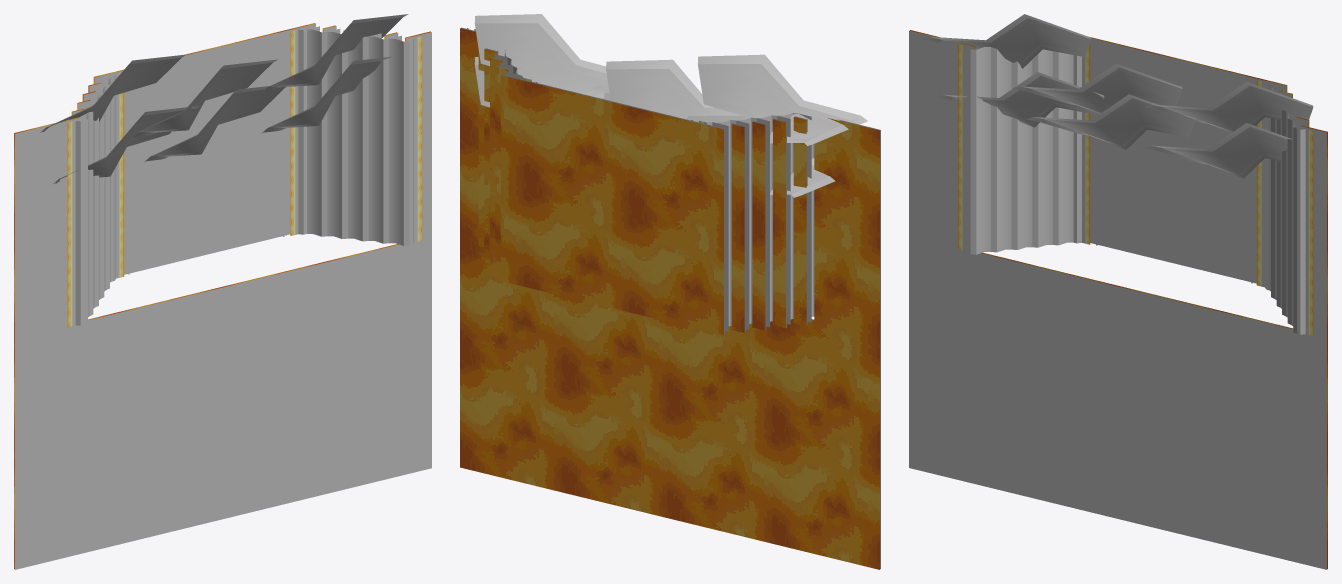
Rendered from Mount-Undara-2_03_02.obj.
3 renders of one model, left to right at view 1: azimuth 30°, elevation 25°; view 2: azimuth 150°, elevation 25°; view 3: azimuth 330°, elevation 25°, orthographic.
Visible parts, largest first — view 1: map; view 2: map; view 3: map.
Part boxes in pixels (left/top/right/bottom): map: left=14, top=14, right=431, bottom=569; map: left=460, top=14, right=880, bottom=569; map: left=909, top=14, right=1327, bottom=569.
Size of the model in its own units: 32 by 35.34 by 5.9.
